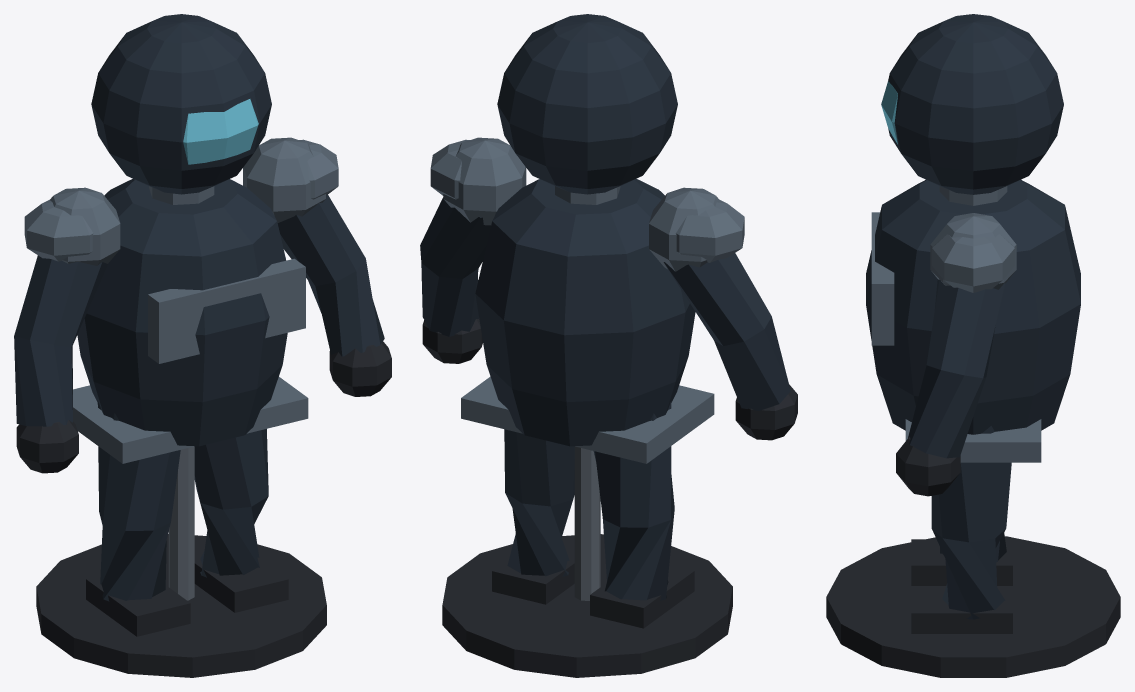
Rendered from duranium-combat-suit.glb.
3 renders of one model, left to right at view 1: azimuth 30°, elevation 25°; view 2: azimuth 150°, elevation 25°; view 3: azimuth 270°, elevation 25°, orthographic.
Parts seen in each view (by area): view 1: m; view 2: m; view 3: m.
Boxes of the visible parts, <box> form: m: <box>14,14,391,677</box>; m: <box>420,14,797,677</box>; m: <box>826,14,1120,677</box>.
Bounding box in the file's own units: 0.3641 × 0.56 × 0.251.
